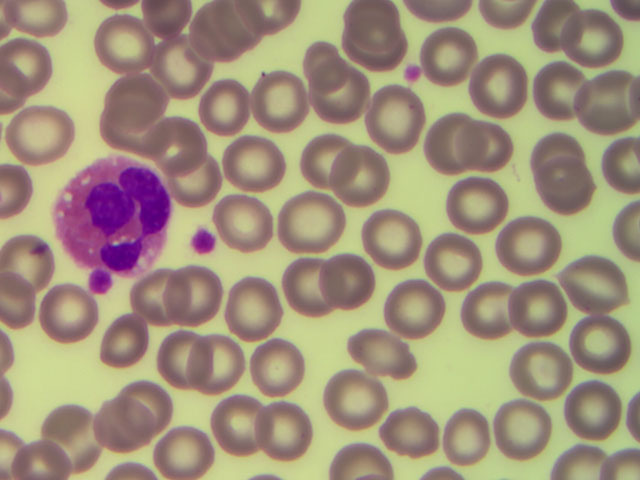Platelets: (188, 228, 215, 256), (88, 273, 113, 296)
RBC: (190, 1, 255, 58), (570, 312, 627, 375), (41, 287, 96, 343), (345, 17, 400, 73), (312, 65, 367, 121), (372, 93, 427, 149), (529, 132, 584, 188), (536, 157, 591, 213), (566, 257, 621, 313), (513, 341, 568, 397), (501, 217, 556, 273), (452, 176, 507, 232), (510, 280, 565, 336), (462, 279, 517, 335), (424, 232, 479, 288), (386, 281, 441, 337), (357, 325, 412, 381), (364, 213, 419, 269), (319, 256, 374, 312), (334, 149, 389, 205), (295, 135, 350, 191), (283, 195, 338, 251), (284, 261, 339, 317), (497, 399, 552, 455), (96, 19, 151, 75), (155, 35, 210, 91), (254, 74, 309, 130), (199, 77, 254, 133), (225, 137, 280, 193), (165, 150, 220, 206), (115, 73, 170, 129), (105, 95, 160, 151), (14, 106, 69, 162), (535, 63, 590, 119), (474, 57, 529, 113), (420, 28, 475, 84), (457, 120, 512, 176), (564, 379, 619, 435), (565, 7, 620, 63), (574, 67, 629, 123), (345, 1, 400, 56), (529, 1, 584, 56), (1, 40, 55, 96), (225, 283, 278, 339), (45, 413, 99, 466), (167, 267, 220, 320), (326, 374, 383, 422), (101, 399, 151, 452), (1, 233, 52, 281), (333, 440, 393, 480), (158, 117, 201, 171), (431, 114, 476, 164), (444, 413, 490, 461), (222, 198, 268, 246), (133, 271, 179, 319), (391, 409, 437, 457), (254, 344, 300, 392), (193, 339, 239, 387), (158, 336, 204, 384), (103, 316, 149, 364), (260, 407, 306, 455), (216, 402, 262, 450), (160, 429, 206, 477), (122, 382, 168, 430), (555, 441, 609, 480), (5, 1, 65, 34), (1, 274, 37, 325), (21, 442, 68, 480), (1, 166, 37, 215), (606, 139, 640, 189), (140, 1, 187, 31), (616, 203, 640, 260), (243, 1, 295, 27), (605, 444, 640, 480), (483, 1, 533, 26), (1, 433, 25, 480), (411, 1, 465, 19), (1, 64, 24, 102), (105, 461, 145, 480), (625, 388, 640, 438), (242, 467, 292, 480), (627, 75, 640, 125), (1, 325, 15, 370), (1, 1, 17, 39), (417, 465, 457, 480), (1, 379, 15, 421), (616, 1, 640, 24), (97, 1, 134, 9)
WBC: (55, 162, 166, 266)
